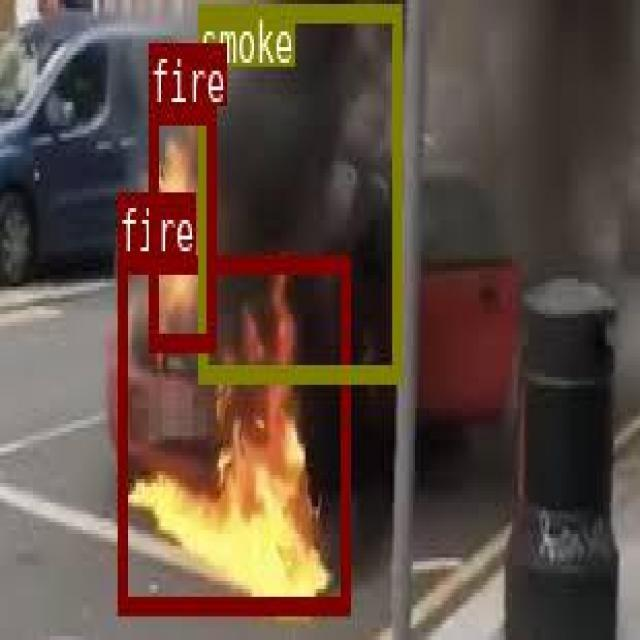fire: (118, 252, 347, 611), (149, 106, 214, 346)
smoke: (197, 2, 400, 380)
